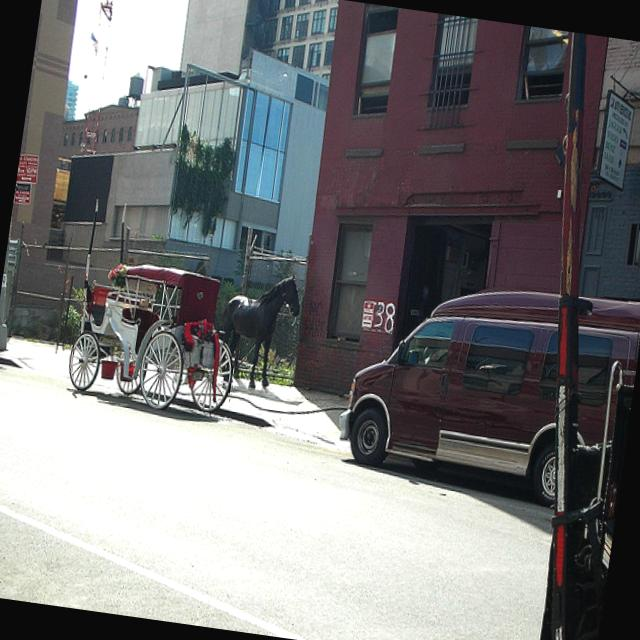Vehicle: (329, 262, 640, 517)
